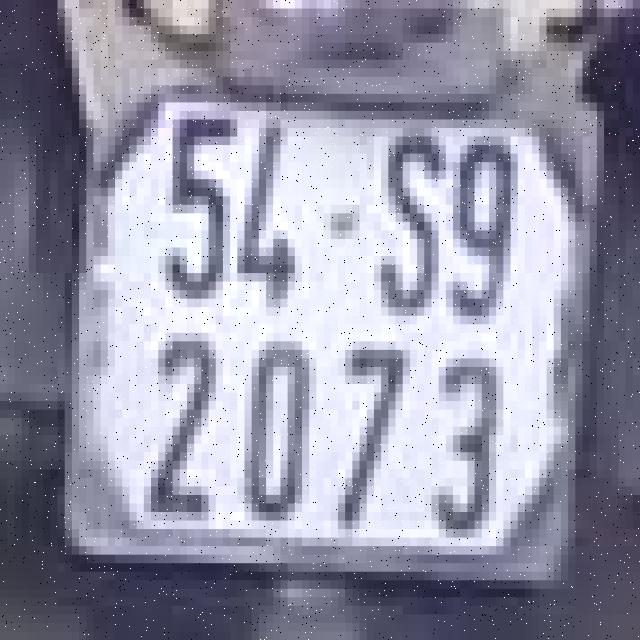0: (238, 337, 310, 533)
2: (148, 320, 220, 533)
3: (432, 341, 504, 538)
4: (237, 106, 302, 328)
5: (158, 111, 238, 299)
7: (331, 337, 417, 533)
9: (449, 128, 522, 341)
S: (378, 124, 450, 320)
